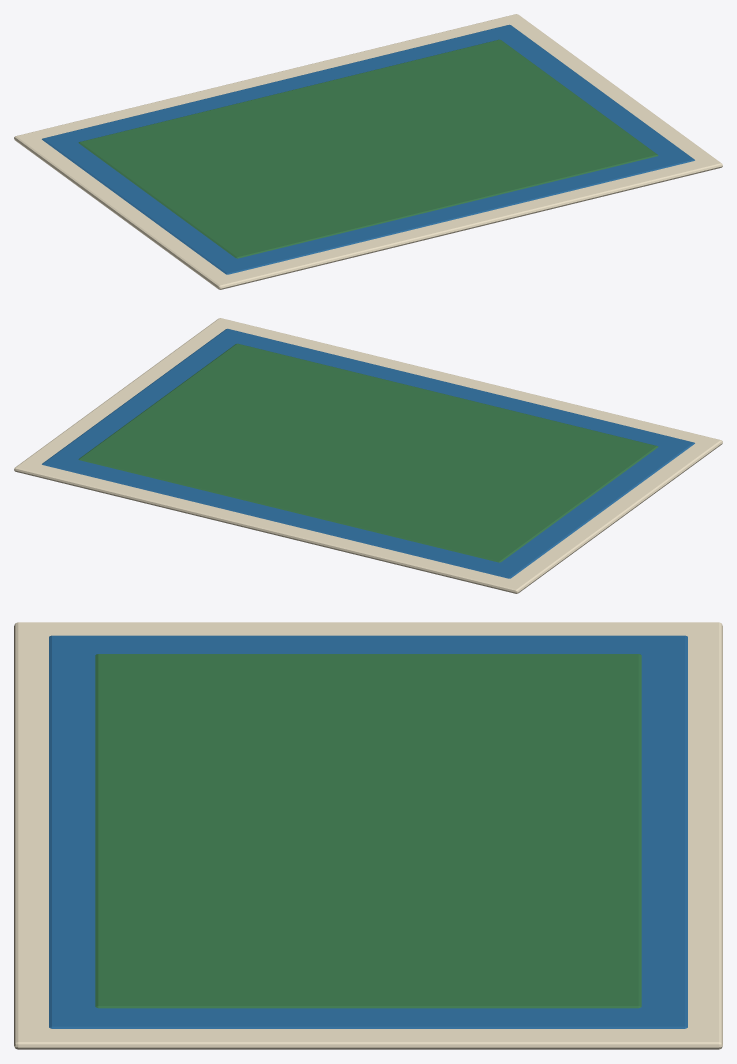
Rendered from rug.glb.
The picture shows the model from 3 angles, top to bottom: view 1: azimuth 30°, elevation 25°; view 2: azimuth 150°, elevation 25°; view 3: azimuth 270°, elevation 25°; orthographic projection. The views are drawn at different scales.
Parts seen in each view (by area): view 1: pile; view 2: pile; view 3: pile.
Boxes of the visible parts, box(x1,y1,x2,y2) form: pile: box(14, 14, 722, 289); pile: box(14, 318, 722, 593); pile: box(14, 622, 722, 1049).
Size of the model in its own units: 2.4 by 0.026 by 1.7.
